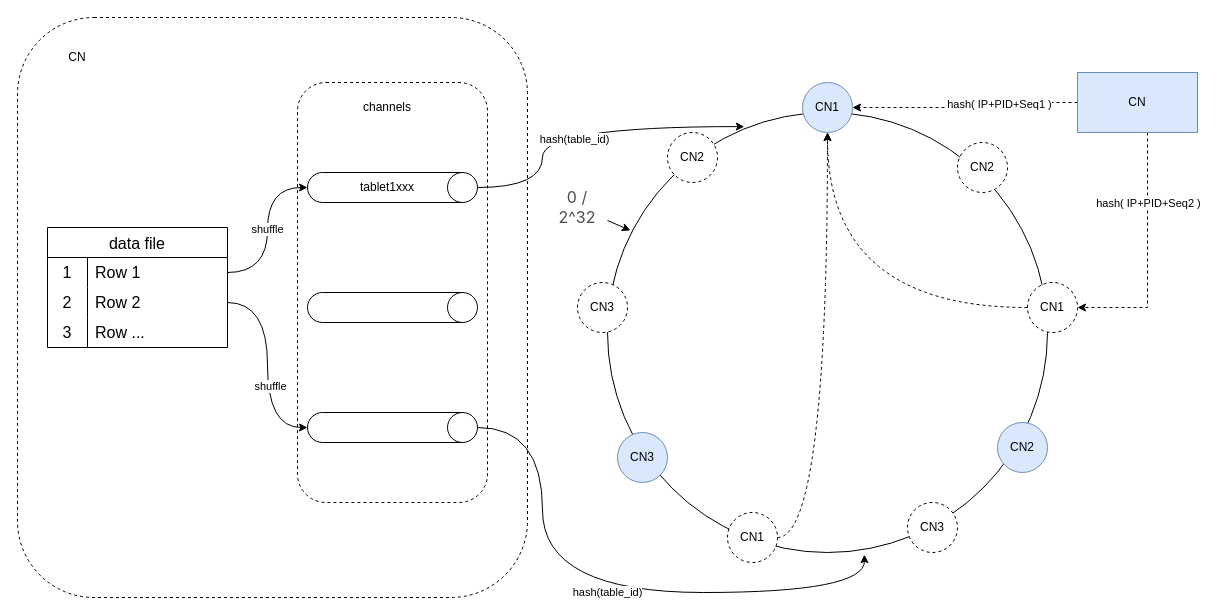
The diagram is 1218 pixels wide and 616 high, and some of its shapes have lost their labels. Here are the shapes that lost their labels. From the top down, the centre of each, then its label:
At point 392,307: "tablet ..".
At point 392,427: "tablet2xxx".
